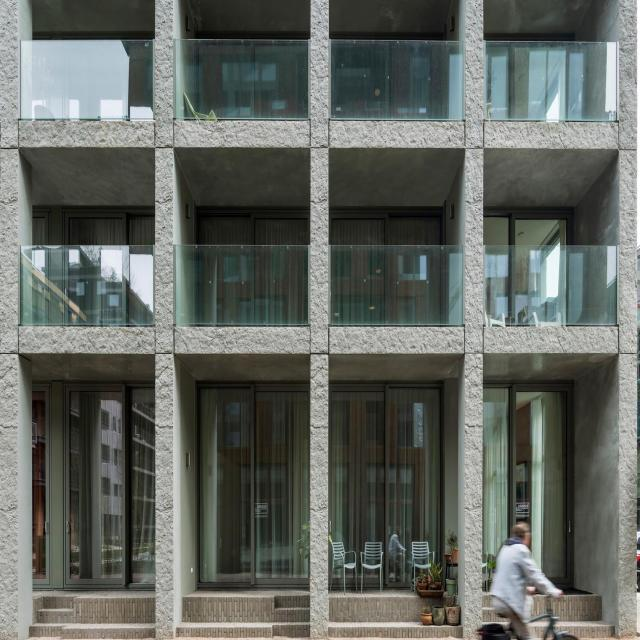door: (330, 387, 442, 589), (199, 381, 312, 579), (60, 378, 160, 590), (484, 381, 576, 582)
railing: (19, 241, 156, 327), (20, 39, 155, 125), (484, 244, 617, 329), (174, 38, 310, 120), (178, 244, 312, 327), (331, 41, 465, 123), (485, 37, 618, 118), (329, 246, 463, 324)
window: (330, 208, 445, 248), (36, 206, 156, 241), (197, 211, 311, 245), (485, 210, 573, 245)
